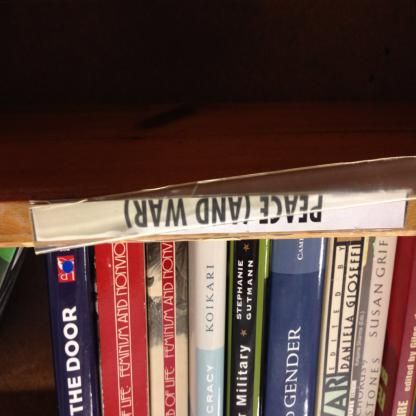book: (265, 234, 329, 416), (42, 244, 102, 416), (94, 242, 152, 416), (312, 236, 365, 416), (348, 235, 398, 416), (224, 240, 272, 416), (186, 238, 230, 416), (145, 240, 188, 415), (373, 236, 415, 414)
